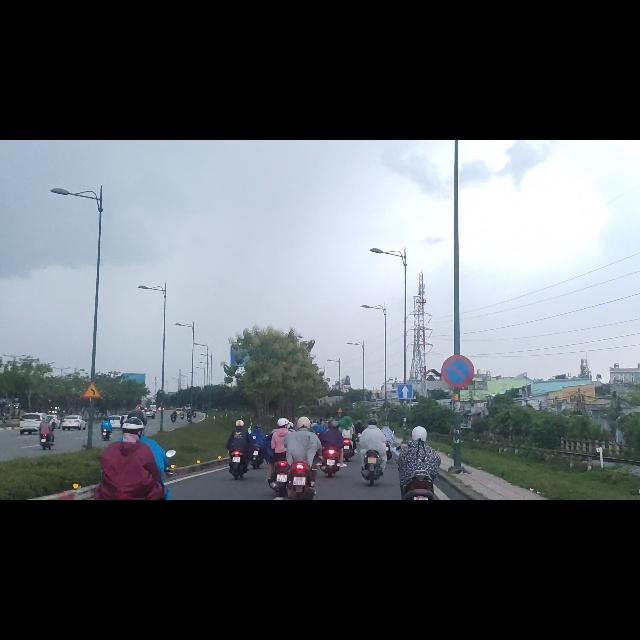bien_chi_dan: (441, 383, 475, 439), (82, 429, 101, 459), (398, 434, 413, 460)
